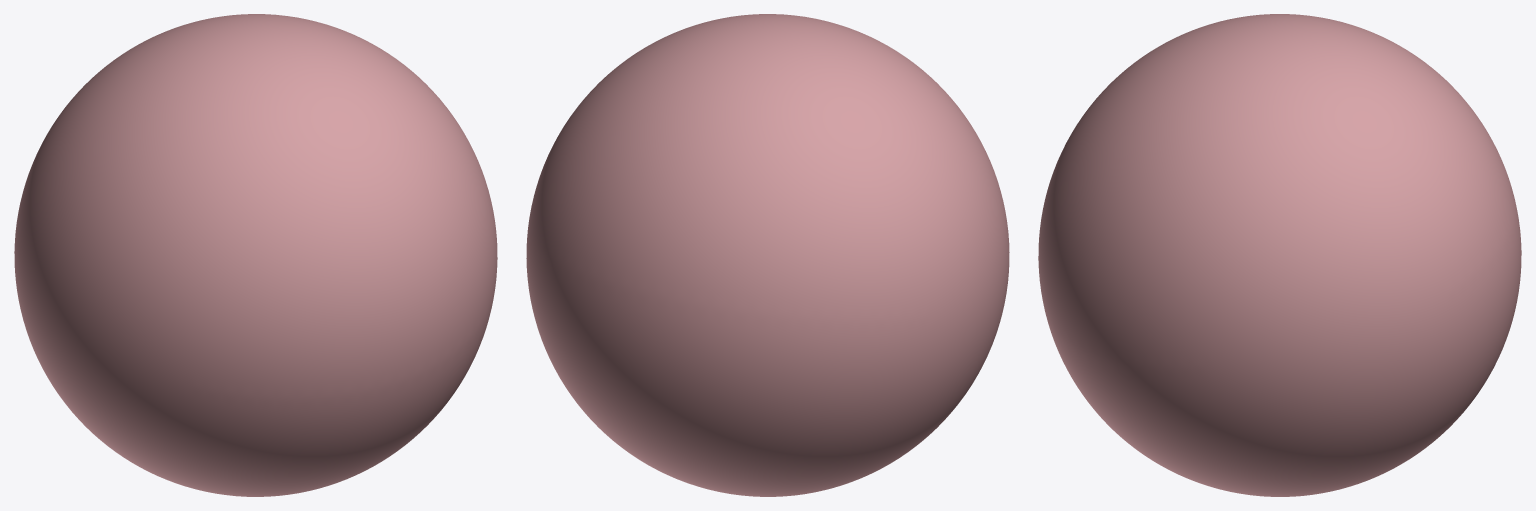
Rendered from fma75639-l_mm1037.glb.
3 renders of one model, left to right at view 1: azimuth 30°, elevation 25°; view 2: azimuth 150°, elevation 25°; view 3: azimuth 270°, elevation 25°, orthographic.
Parts seen in each view (by area): view 1: FMA75639-L_MM1037; view 2: FMA75639-L_MM1037; view 3: FMA75639-L_MM1037.
Boxes of the visible parts, x1,y1,x2,y2 form: FMA75639-L_MM1037: (14, 14, 497, 496); FMA75639-L_MM1037: (526, 14, 1009, 496); FMA75639-L_MM1037: (1038, 14, 1521, 496).
Bounding box in the file's own units: 0.00251 × 0.00251 × 0.00251.
